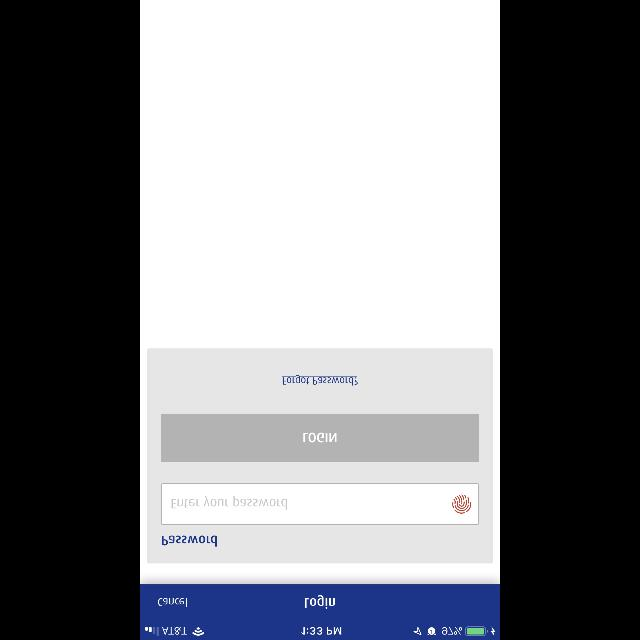image: (452, 494, 472, 514)
input: (161, 484, 479, 524)
text: (172, 495, 286, 509), (282, 374, 358, 386), (162, 536, 218, 546), (305, 595, 335, 609), (158, 598, 188, 606)
textbutton: (161, 414, 479, 462)
uppertaskbar: (140, 626, 500, 640)
